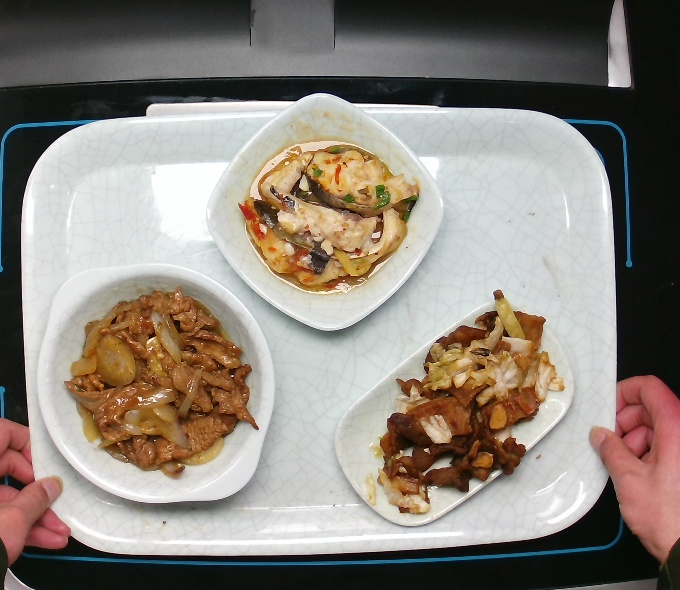wcq-DuoJiaoYuKuai: (232, 134, 422, 302)
wcq-PaoCaiRouPian: (365, 288, 573, 531)
wcq-YangCongRouPian: (67, 290, 267, 475)
